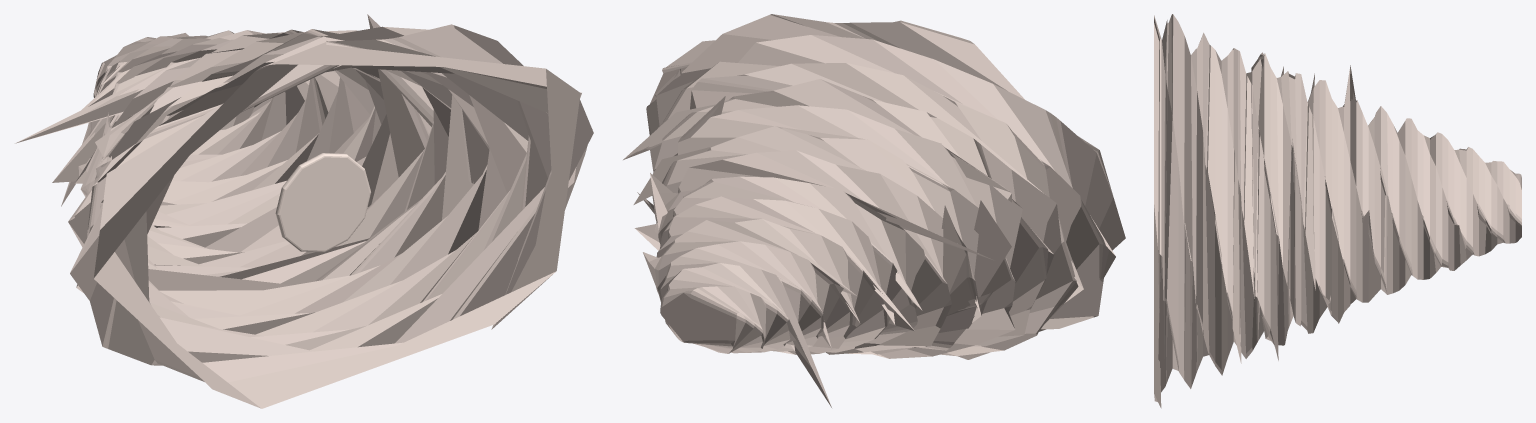
File: 45-Arte3D_concha_mar.glb
The picture shows the model from 3 angles, left to right: view 1: azimuth 30°, elevation 25°; view 2: azimuth 150°, elevation 25°; view 3: azimuth 270°, elevation 25°; orthographic projection. The views are drawn at different scales.
Parts seen in each view (by area): view 1: SM_Concha_Mar, SM_Concha_Interior; view 2: SM_Concha_Mar; view 3: SM_Concha_Mar.
Boxes of the visible parts, x1=… form: SM_Concha_Mar: x1=15, y1=14, x2=593, y2=408; SM_Concha_Interior: x1=275, y1=153, x2=370, y2=252; SM_Concha_Mar: x1=623, y1=14, x2=1125, y2=407; SM_Concha_Mar: x1=1154, y1=14, x2=1521, y2=408.
Bounding box in the file's own units: 0.4349 × 0.283 × 0.3.
